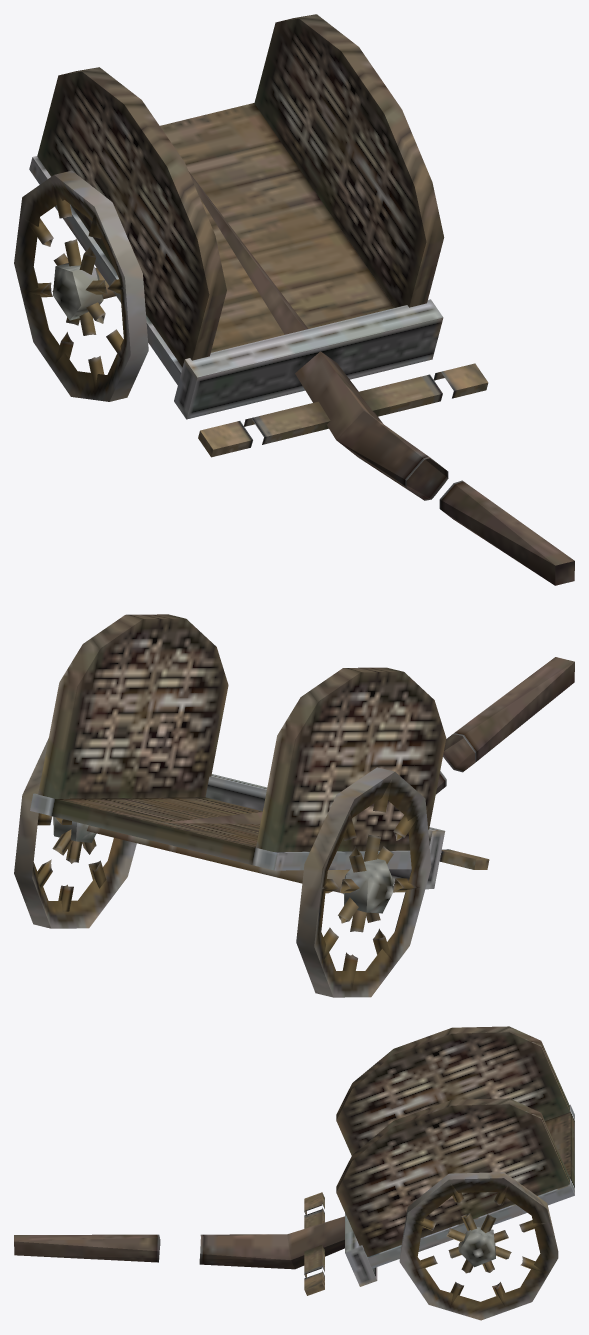
File: celt_chariot.dae
The picture shows the model from 3 angles, top to bottom: view 1: azimuth 30°, elevation 25°; view 2: azimuth 150°, elevation 25°; view 3: azimuth 270°, elevation 25°; orthographic projection. The views are drawn at different scales.
Visible parts, largest first — view 1: chariot_su; view 2: chariot_su; view 3: chariot_su.
Part boxes in pixels (left/top/right/bottom): chariot_su: left=14, top=14, right=574, bottom=585; chariot_su: left=14, top=614, right=574, bottom=997; chariot_su: left=14, top=1026, right=574, bottom=1320.
Size of the model in its own units: 3.81 by 3.25 by 8.05.
